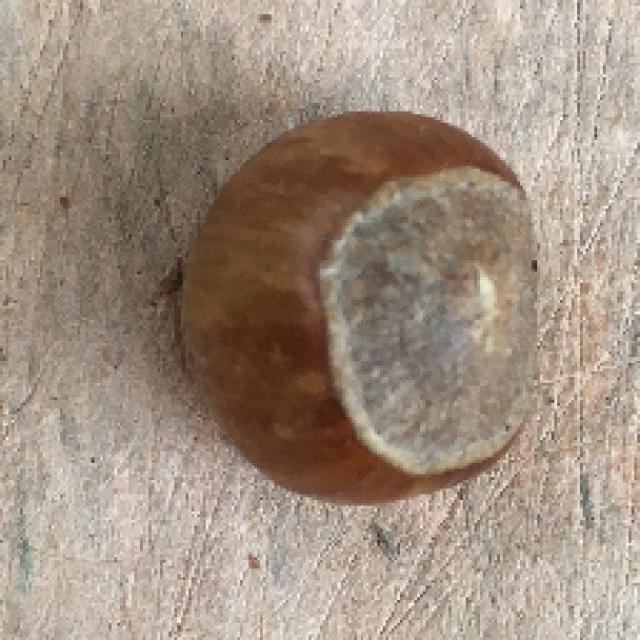qualityHazelnut: (167, 99, 558, 508)
